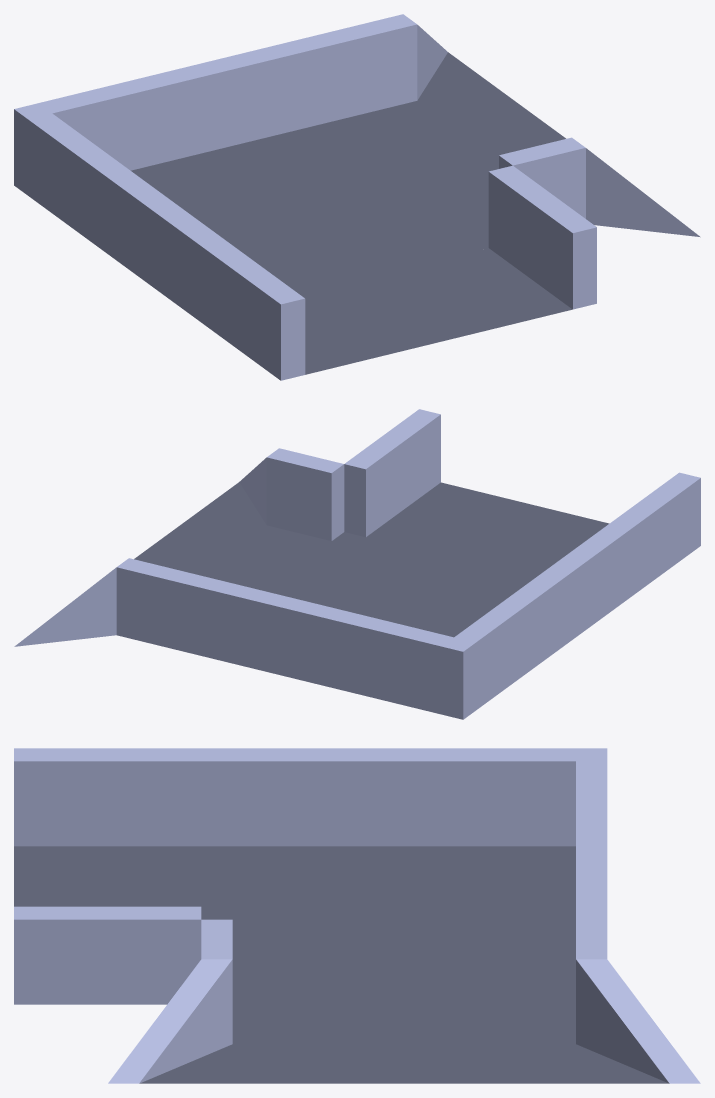
The model's file is footbridge-corridor-closed-west.glb.
3 views of the same model, one above another, from view 1: azimuth 30°, elevation 25°; view 2: azimuth 150°, elevation 25°; view 3: azimuth 270°, elevation 25° (orthographic). The views are drawn at different scales.
Visible parts, largest first — view 1: footbridge-corridor-closed-west; view 2: footbridge-corridor-closed-west; view 3: footbridge-corridor-closed-west.
Part boxes in pixels (x1=…): footbridge-corridor-closed-west: x1=14, y1=14, x2=700, y2=380; footbridge-corridor-closed-west: x1=14, y1=409, x2=700, y2=719; footbridge-corridor-closed-west: x1=14, y1=748, x2=700, y2=1083.
Bounding box in the file's own units: 0.76 × 0.12 × 0.88.
Materials: 1 (1 with a texture image).
